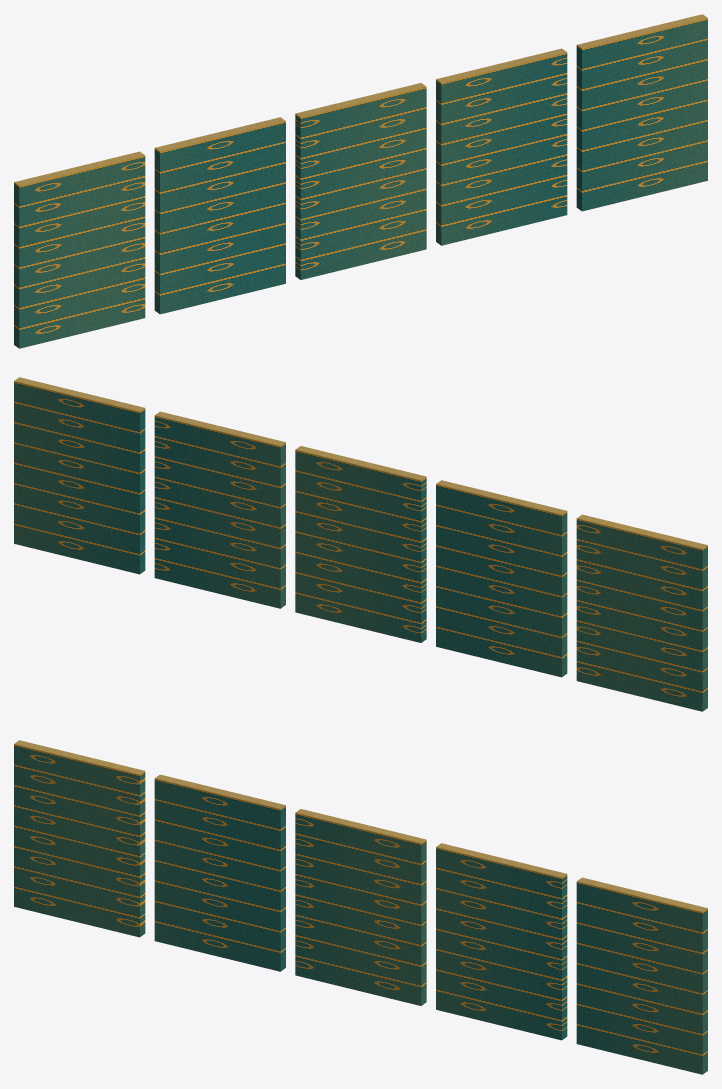
Rendered from papel_picado.obj.
3 renders of one model, top to bottom at view 1: azimuth 30°, elevation 25°; view 2: azimuth 150°, elevation 25°; view 3: azimuth 330°, elevation 25°, orthographic.
Visible parts, largest first — view 1: papel_picado; view 2: papel_picado; view 3: papel_picado.
Boxes of the visible parts, <box> form: papel_picado: <box>14,14,707,348</box>; papel_picado: <box>14,377,707,711</box>; papel_picado: <box>14,740,707,1074</box>.
Size of the model in its own units: 1.86 by 0.42 by 0.025.
Materials: 1 (1 with a texture image).
